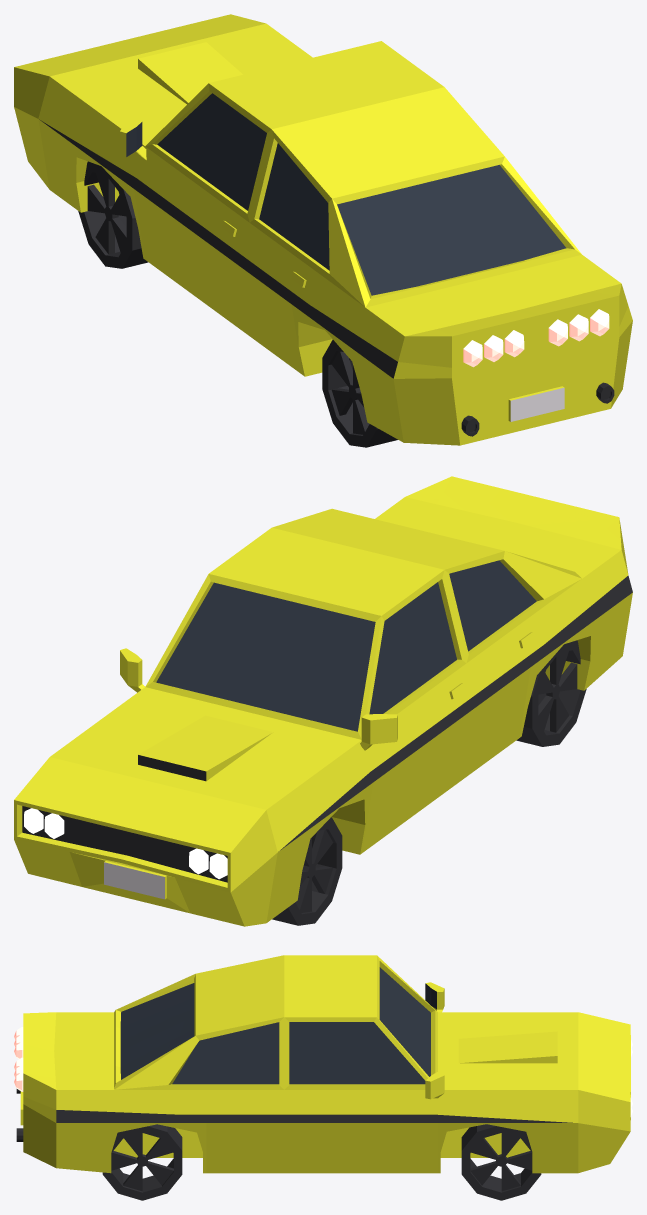
File: rv_muscle.glb
The picture shows the model from 3 angles, top to bottom: view 1: azimuth 30°, elevation 25°; view 2: azimuth 150°, elevation 25°; view 3: azimuth 270°, elevation 25°; orthographic projection. The views are drawn at different scales.
Parts seen in each view (by area): view 1: Body, WheelFL, WheelRL; view 2: Body, WheelRL, WheelFL; view 3: Body, WheelFR, WheelRR.
Part boxes in pixels (x1,y1,x2,y2): Body: (14,14,632,445); WheelFL: (78,161,148,268); WheelRL: (322,339,397,447); Body: (14,476,632,926); WheelRL: (516,640,586,746); WheelFL: (272,817,342,925); Body: (14,955,632,1173); WheelFR: (461,1124,541,1200); WheelRR: (102,1124,182,1200).
Size of the model in its own units: 1.9 by 1.58 by 5.
